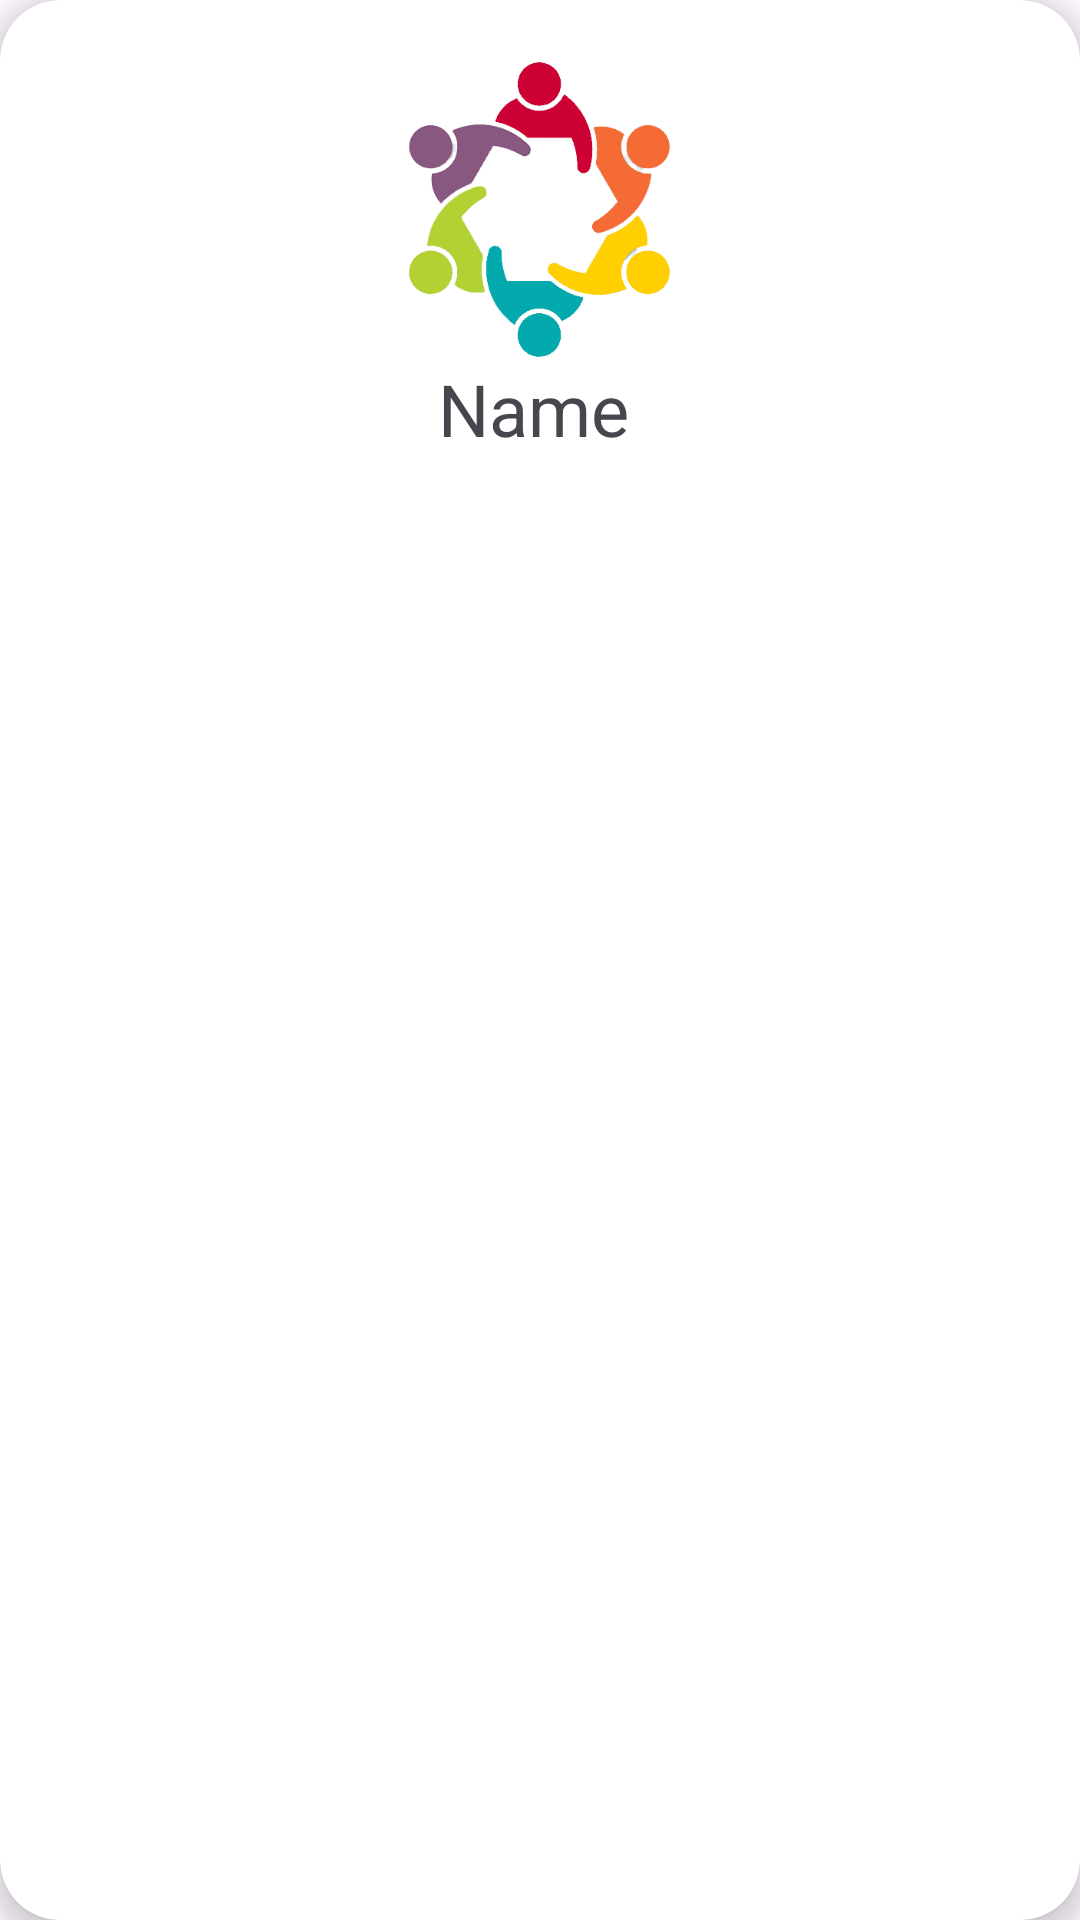

Where icons sit on this 1080px x 1920px app screen, as detection(x1, y1, x2, y2):
teamwork: detection(409, 62, 670, 357)
